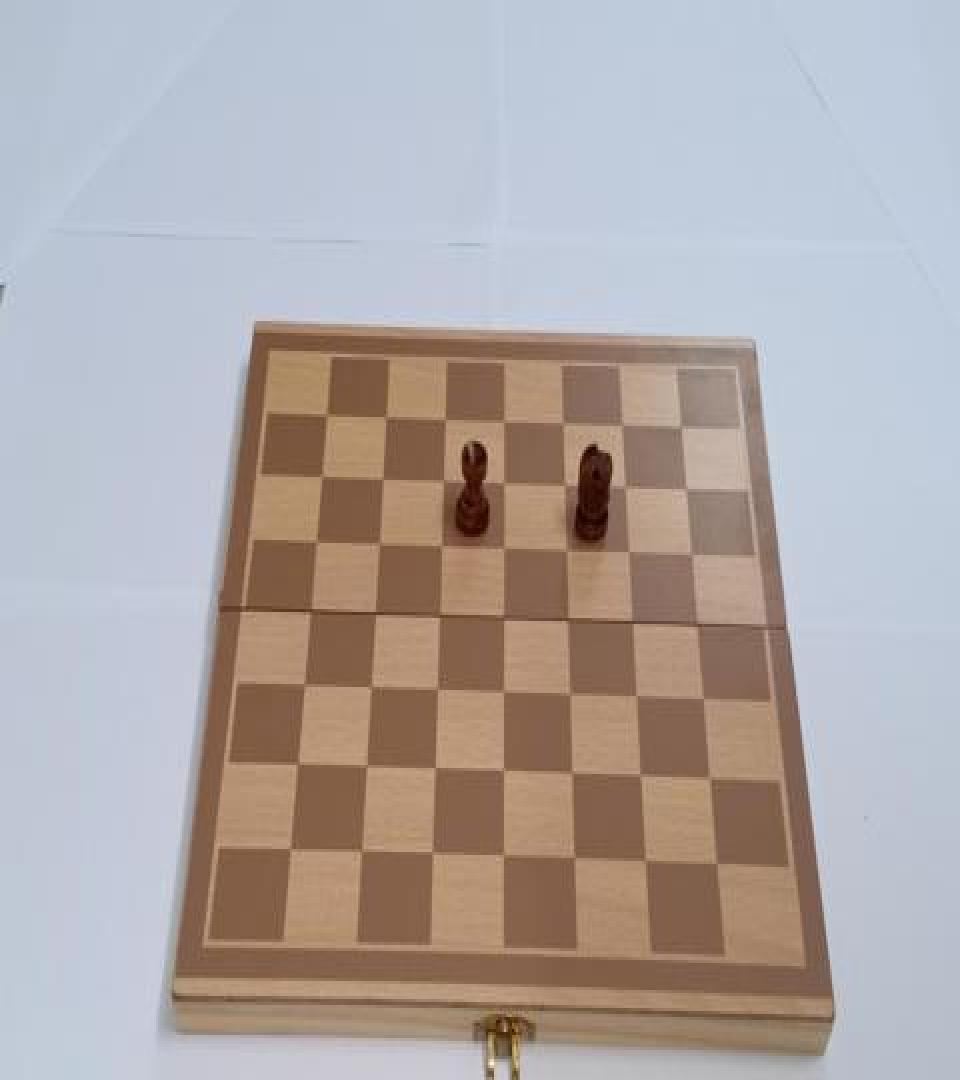xcorner: (371, 466, 389, 494), (434, 406, 452, 434), (614, 412, 632, 440), (679, 478, 697, 506), (315, 402, 333, 429), (310, 465, 328, 492), (304, 531, 322, 558), (293, 675, 311, 702), (286, 755, 304, 782), (279, 840, 297, 867), (374, 405, 392, 432), (368, 532, 386, 559), (364, 603, 382, 630), (360, 678, 378, 705), (433, 470, 451, 497), (429, 606, 447, 633), (425, 759, 443, 786), (423, 844, 441, 871), (494, 471, 512, 498), (494, 537, 512, 564), (495, 683, 513, 710), (495, 762, 513, 789), (554, 411, 572, 438), (556, 474, 574, 501), (558, 540, 576, 567), (560, 610, 578, 637), (565, 765, 583, 792), (567, 849, 585, 876), (625, 612, 643, 639), (629, 687, 647, 714), (634, 766, 652, 793), (639, 852, 657, 879), (673, 415, 691, 442), (684, 545, 702, 572), (690, 615, 708, 642), (697, 690, 715, 717), (711, 855, 729, 882), (299, 602, 317, 628), (356, 758, 374, 784), (351, 842, 369, 868), (431, 536, 449, 562), (427, 680, 445, 706), (494, 410, 512, 436), (495, 608, 513, 634), (495, 848, 513, 874), (562, 686, 580, 712), (617, 476, 635, 502), (621, 542, 639, 568), (704, 770, 722, 796)
